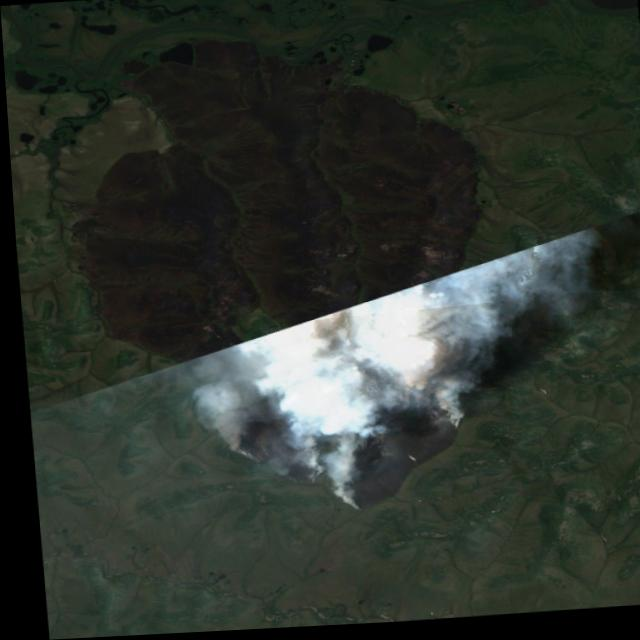fire: (215, 371, 460, 522)
